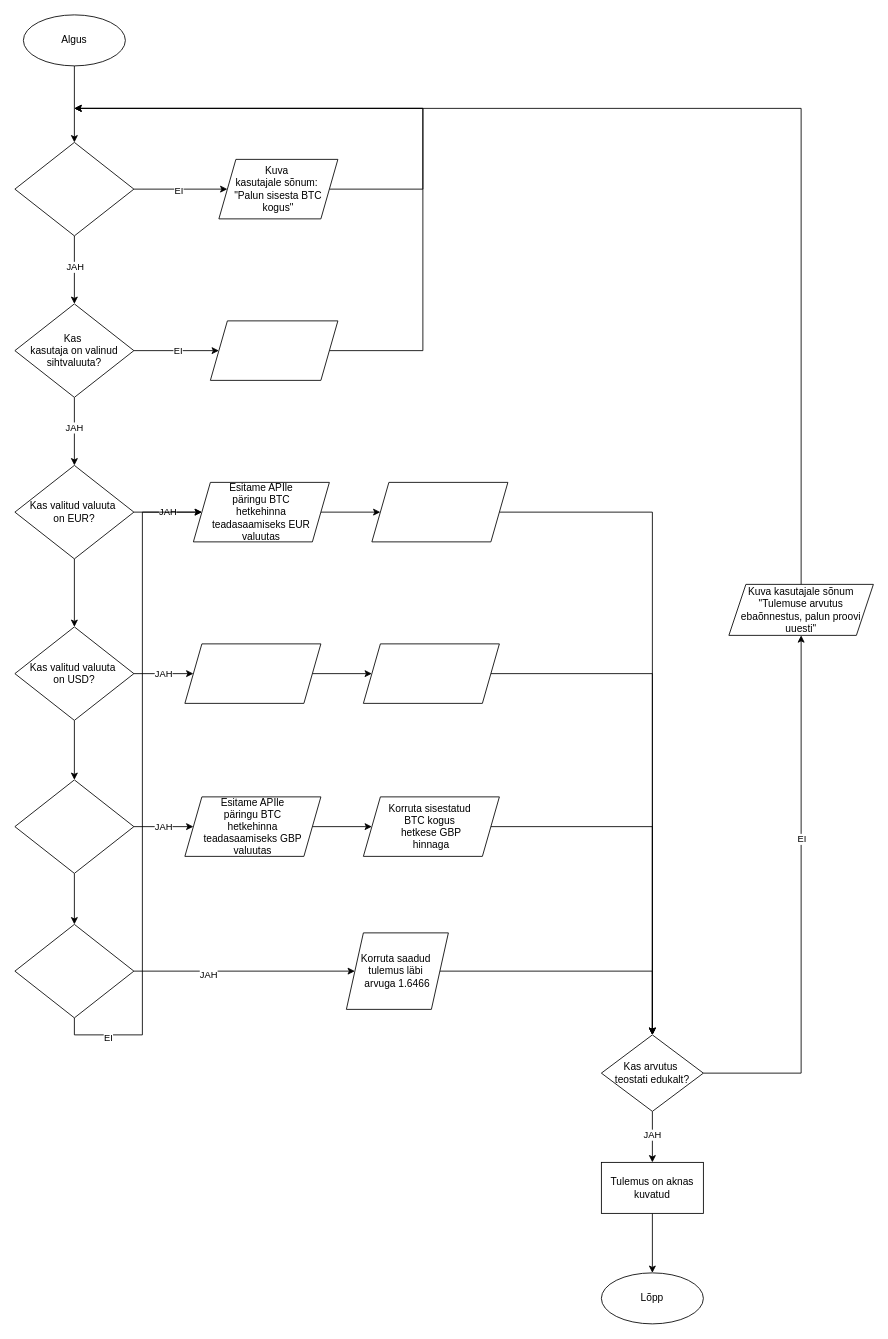
The diagram is 888 pixels wide and 1339 high, and some of its shapes have lost their labels. Here are the shapes that lost their labels. From the top down, the box of each, then its label:
(14, 142, 134, 236): Kas kasutaja on sisestanud oma bitcoini koguse?
(210, 320, 338, 380): Kuva kasutajale sõnum: "Palun vali sihtvaluuta"
(371, 482, 508, 542): Korruta sisestatud BTC kogus hetkese EUR hinnaga
(184, 643, 321, 703): Esitame APIle päringu BTC hetkehinna teadasaamiseks USD valuutas
(363, 643, 499, 703): Korruta sisestatud BTC kogus hetkese USD hinnaga
(14, 779, 134, 873): Kas valitud valuuta on GBP?
(14, 924, 134, 1018): Kas valitud valuuta on EEK?
